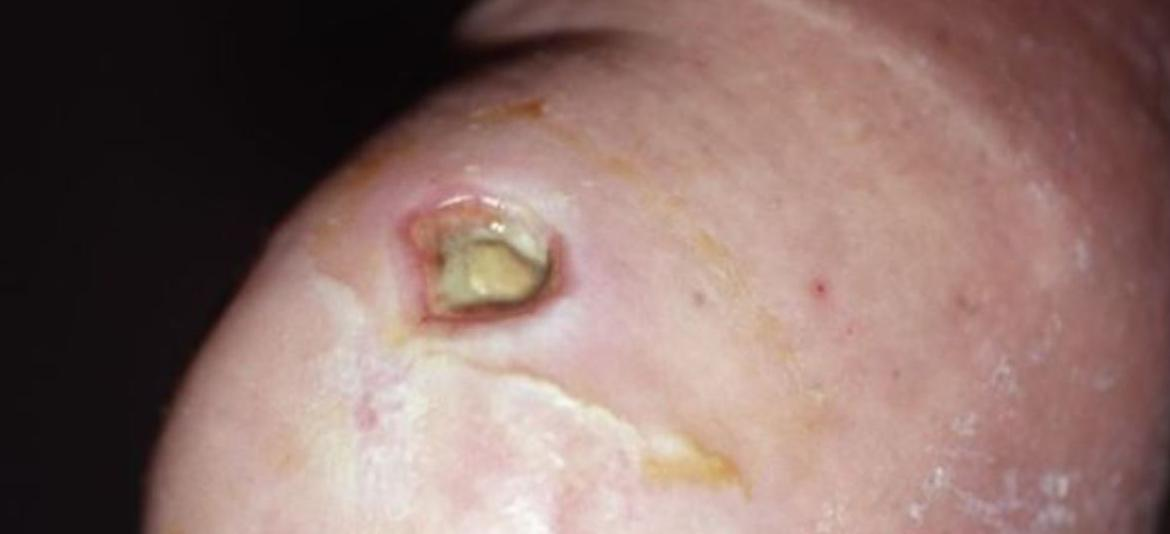Stage2: (398, 187, 576, 328)
